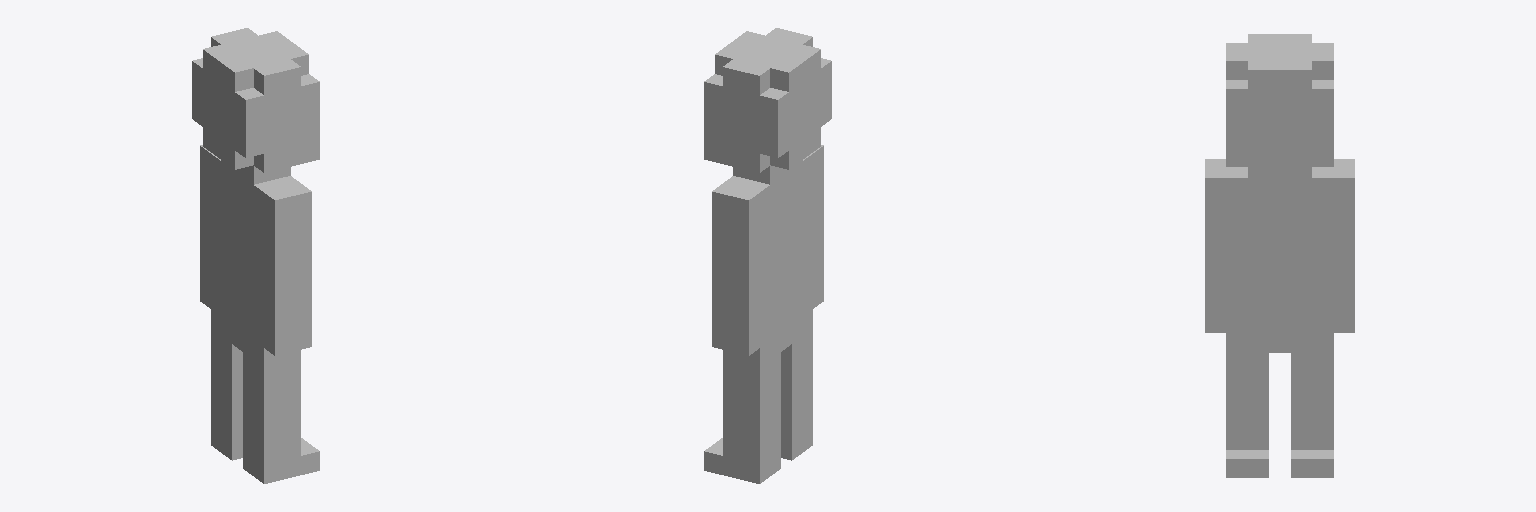
File: Voxel Human FREE-9.obj
3 renders of one model, left to right at view 1: azimuth 30°, elevation 25°; view 2: azimuth 150°, elevation 25°; view 3: azimuth 270°, elevation 25°, orthographic.
Visible parts, largest first — view 1: object 1; view 2: object 1; view 3: object 1.
Part boxes in pixels (x1,y1,x2,y2): object 1: (192,28,319,483); object 1: (704,28,831,483); object 1: (1205,34,1354,477).
Size of the model in its own units: 0.4 by 2.1 by 0.7.